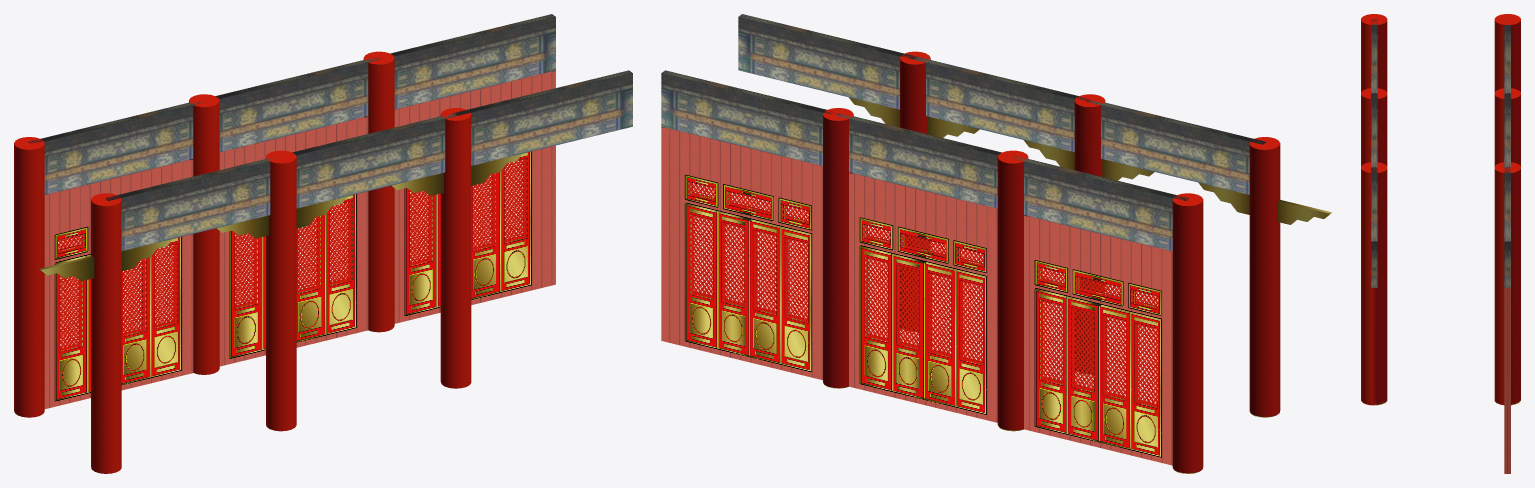
File: colwallwallwall.dae
3 renders of one model, left to right at view 1: azimuth 30°, elevation 25°; view 2: azimuth 150°, elevation 25°; view 3: azimuth 270°, elevation 25°, orthographic. The views are drawn at different scales.
Parts seen in each view (by area): view 1: MainNode; view 2: MainNode; view 3: MainNode.
Part boxes in pixels (left/top/right/bottom): MainNode: left=14, top=14, right=632, bottom=473; MainNode: left=661, top=14, right=1331, bottom=473; MainNode: left=1361, top=14, right=1520, bottom=473.
Size of the model in its own units: 11.09 by 4.8 by 2.99.
1 material, 1 textured.
